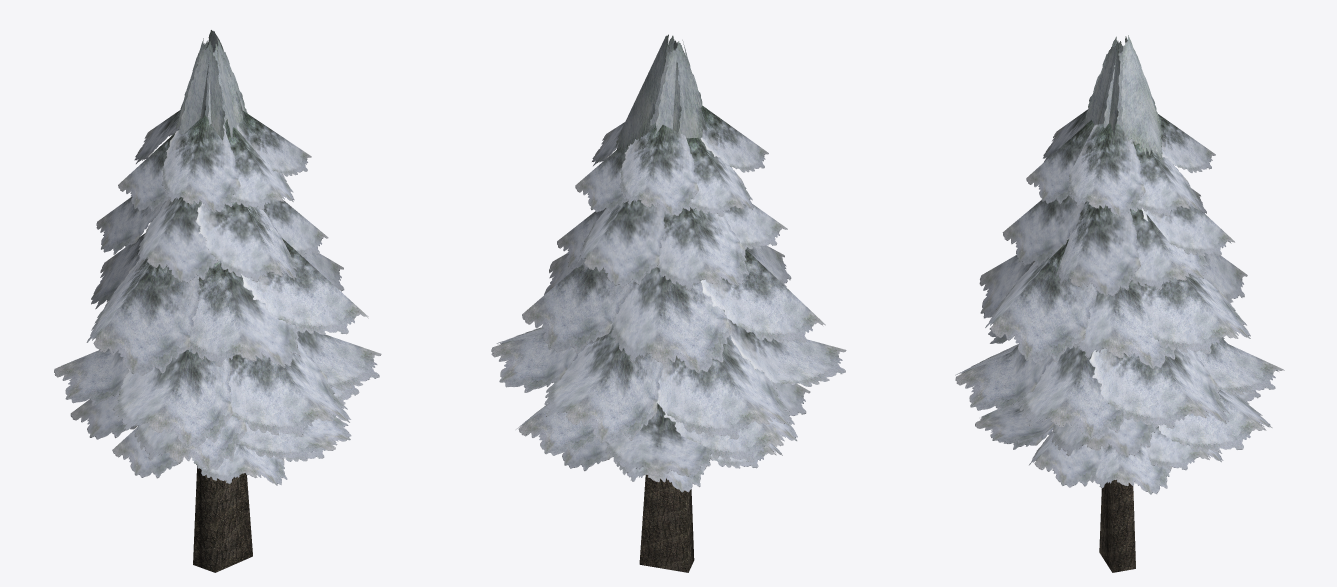
The model's file is tree.fbx.
3 views of the same model, side by side, from view 1: azimuth 30°, elevation 25°; view 2: azimuth 150°, elevation 25°; view 3: azimuth 270°, elevation 25° (orthographic). The views are drawn at different scales.
Visible parts, largest first — view 1: TreeSnow_lod_01011__TreeSnow_Bark.001; view 2: TreeSnow_lod_01011__TreeSnow_Bark.001; view 3: TreeSnow_lod_01011__TreeSnow_Bark.001.
Part boxes in pixels (x1=…): TreeSnow_lod_01011__TreeSnow_Bark.001: x1=54, y1=30, x2=381, y2=572; TreeSnow_lod_01011__TreeSnow_Bark.001: x1=491, y1=34, x2=846, y2=572; TreeSnow_lod_01011__TreeSnow_Bark.001: x1=955, y1=35, x2=1284, y2=572.
Size of the model in its own units: 7.08 by 11.21 by 7.62.
